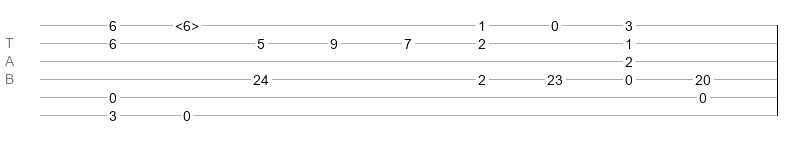0: (109, 90, 117, 100), (183, 108, 191, 118), (551, 18, 559, 28), (625, 72, 633, 82), (699, 90, 707, 100)
1: (478, 18, 486, 28), (625, 36, 633, 46)
2: (478, 36, 486, 46), (478, 72, 486, 82), (625, 54, 633, 64)
20: (695, 72, 711, 82)
23: (547, 72, 563, 82)
24: (253, 72, 269, 82)
3: (109, 108, 117, 118), (625, 18, 633, 28)
5: (257, 36, 265, 46)
6: (109, 18, 117, 28), (109, 36, 117, 46)
7: (404, 36, 412, 46)
9: (330, 36, 338, 46)
harmonic: (175, 18, 199, 28)
